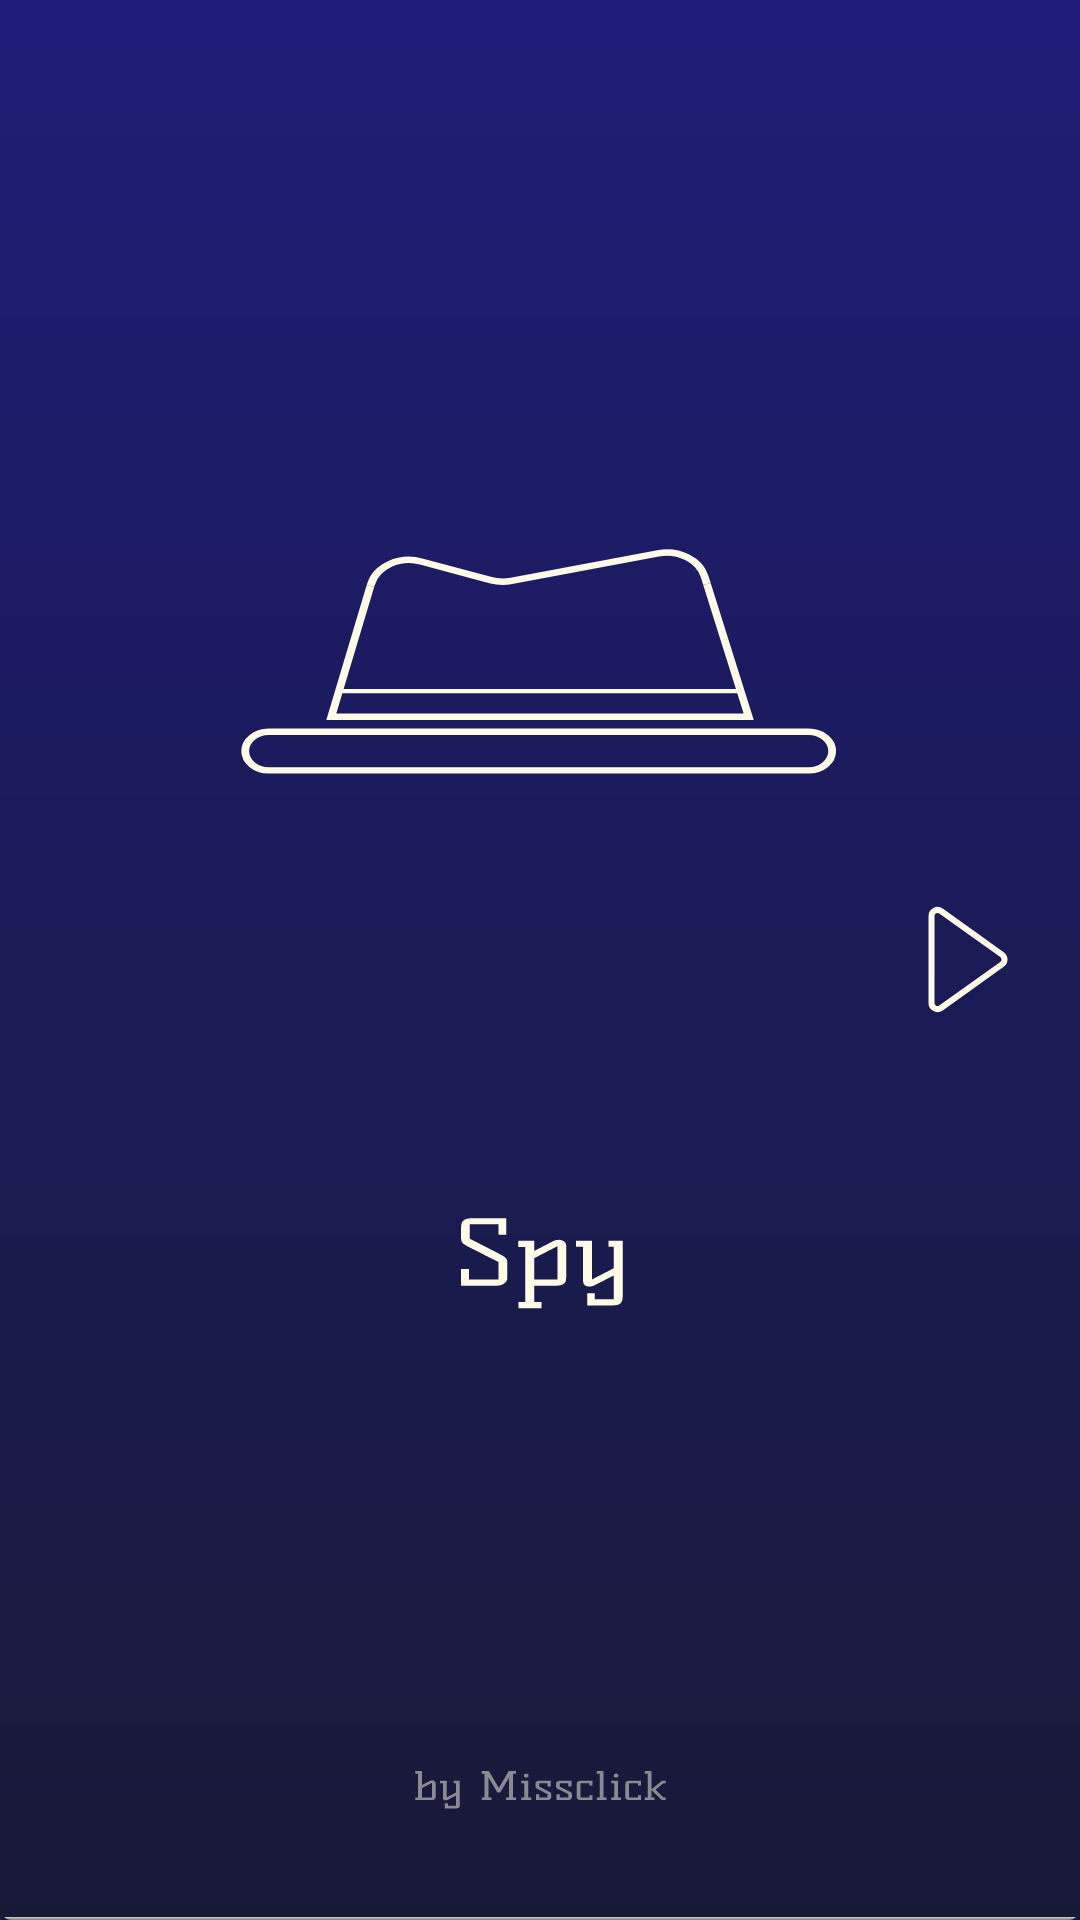

Locate icon controls on the screen. Image size 1080w x 1920h, boxes as box(x1, y1, x2, y2).
point transperent: box(928, 906, 1008, 1013)
